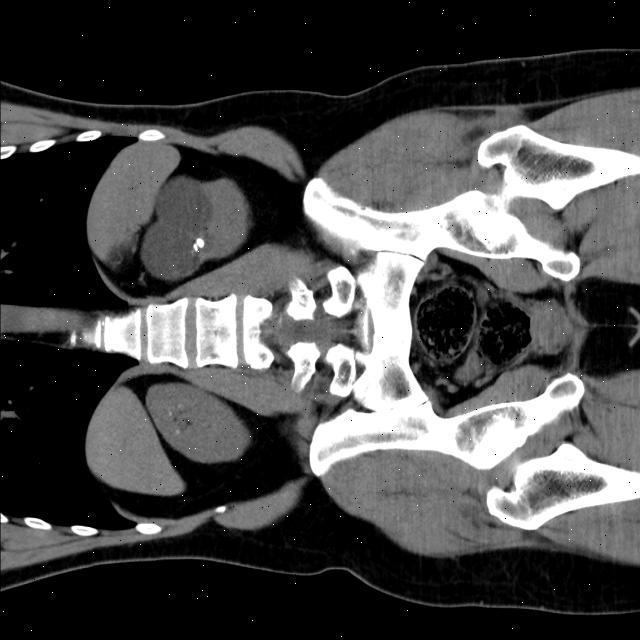kidneystone: (192, 238, 204, 252)
